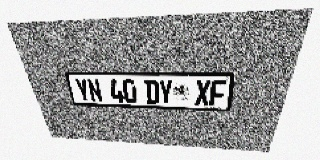0: (122, 79, 137, 103)
4: (108, 79, 125, 103)
D: (144, 79, 159, 104)
F: (209, 80, 227, 106)
N: (86, 79, 103, 102)
X: (195, 80, 211, 106)
Y: (74, 79, 91, 102), (158, 79, 172, 104)
